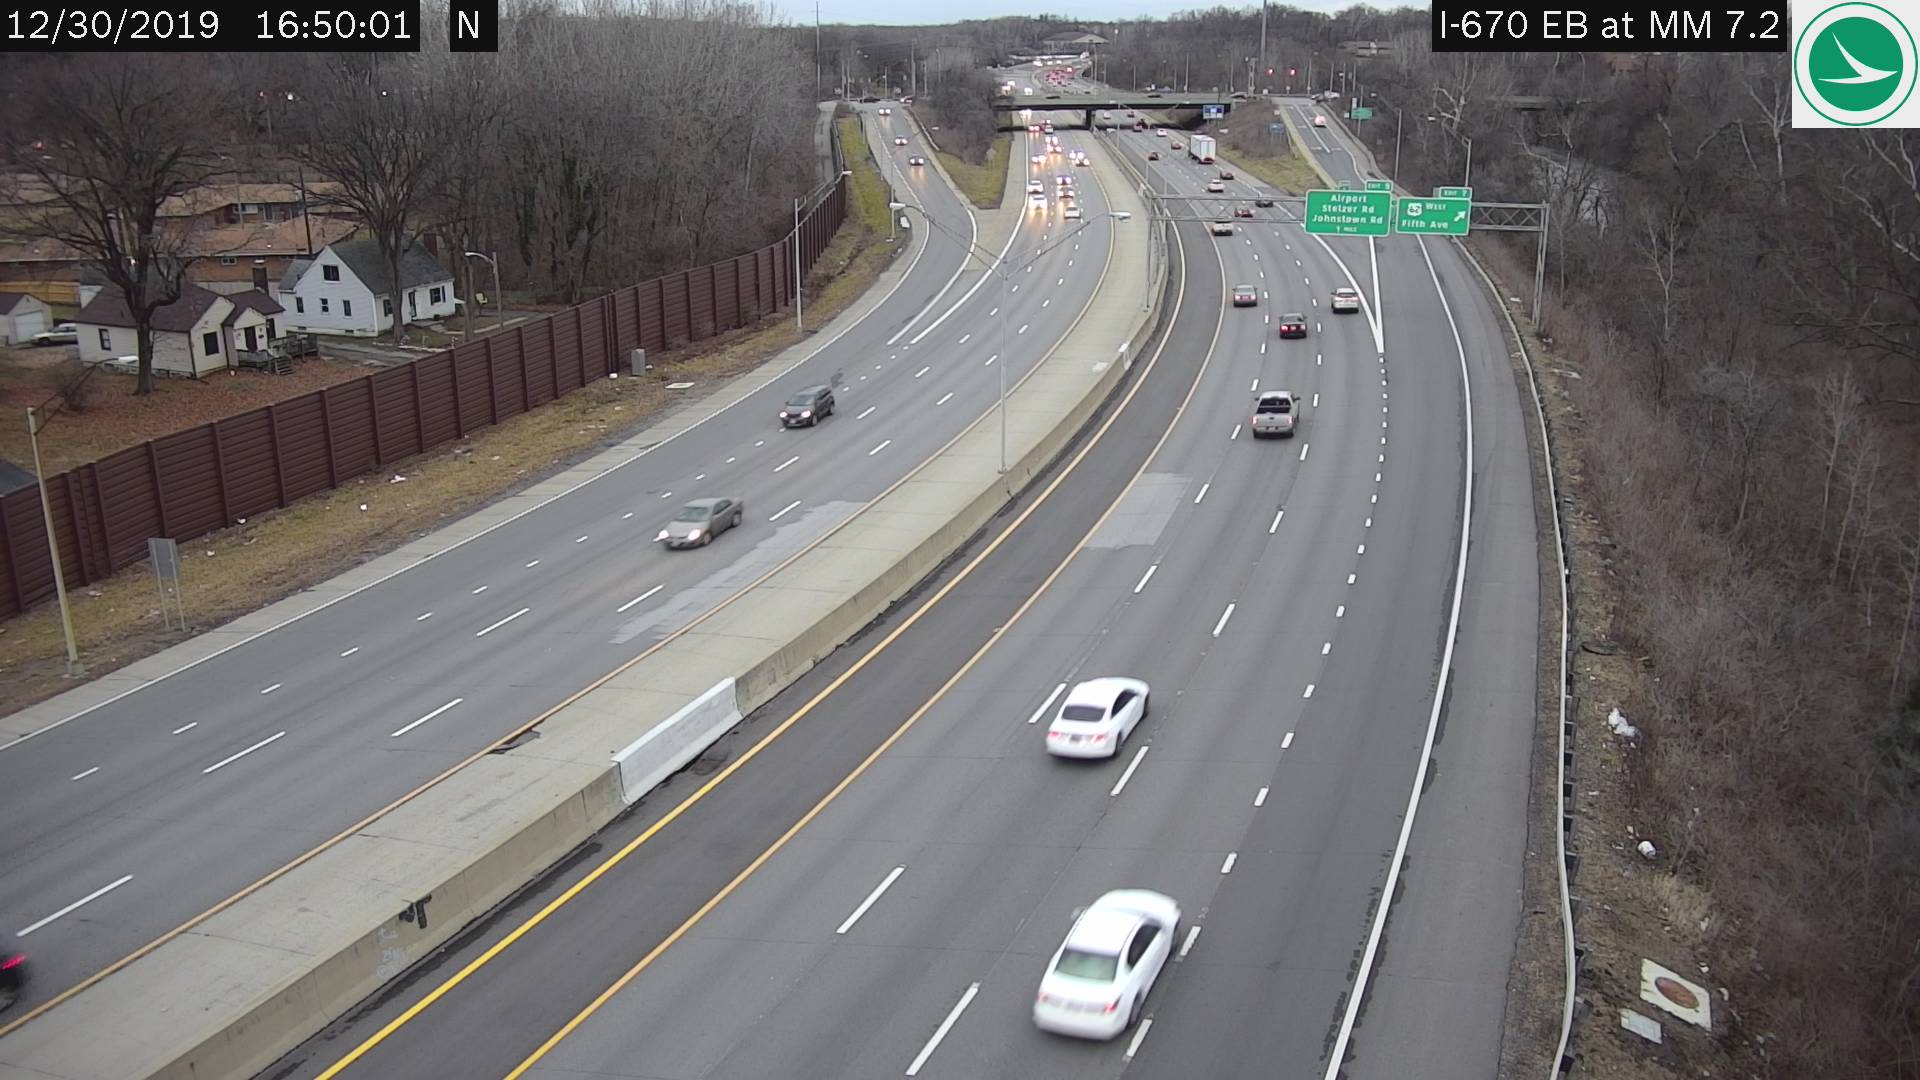car: (1030, 887, 1182, 1044), (1046, 673, 1150, 764), (658, 496, 742, 549), (778, 384, 833, 429), (1250, 388, 1298, 436), (1331, 284, 1358, 313), (1278, 313, 1305, 340), (1188, 132, 1213, 162), (1234, 284, 1254, 305), (1211, 218, 1233, 232), (1207, 177, 1222, 190), (1255, 195, 1273, 207)
